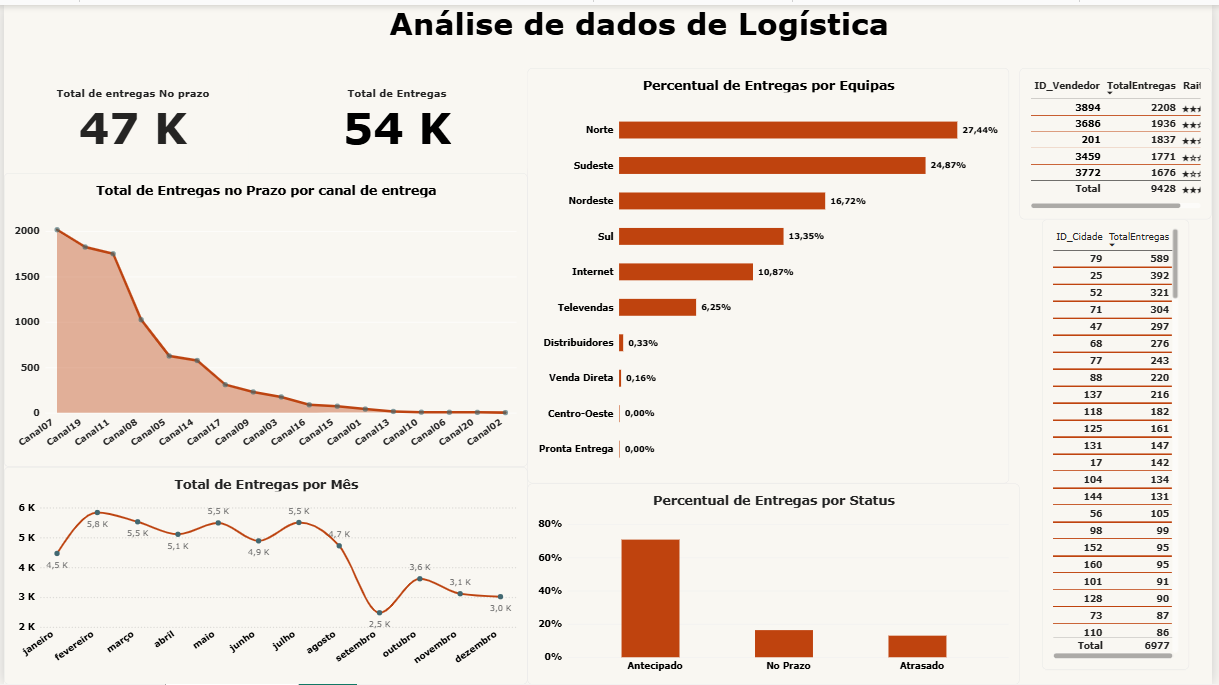

The dashboard page shown, as its layout file describes it:
{"tool":"powerbi","page":{"name":"Logística","canvas":[1920,1080],"ordinal":0},"visuals":[{"type":"areaChart","title":"Total de Entregas no Prazo por canal de entrega","fields":{"Category":["Logistica.Canal_Entrega"],"Y":["Medida.TotalEntregas"]},"box":[0,267.2,832.7,467.6],"z":0},{"type":"clusteredBarChart","title":"Percentual de Entregas por Equipas","fields":{"Category":["Logistica.Equipe_Entrega"],"Y":["Medida.TotalEntregas"]},"box":[832.7,100.2,765.9,660.9],"z":1},{"type":"lineChart","title":"Total de Entregas por Mês","fields":{"Category":["Logistica.Data_Entrega_Realizada.Variação.Hierarquia de Datas.Mês"],"Y":["Medida.TotalEntregas"]},"box":[0,734.9,832.7,346],"z":2},{"type":"tableEx","fields":{"Values":["Logistica.ID_Vendedor","Medida.TotalEntregas","Medida.Raiting"]},"box":[1615.3,100.2,305.4,241],"z":3},{"type":"tableEx","fields":{"Values":["Logistica.ID_Cidade","Medida.TotalEntregas"]},"box":[1651.1,341.2,233.8,715.8],"z":4},{"type":"columnChart","title":"Percentual de Entregas por Status","fields":{"Category":["Logistica.Status_Entrega"],"Y":["Medida.TotalEntregas"]},"box":[832.7,761.1,782.6,319.7],"z":5},{"type":"cardVisual","title":"Total de Entregas","fields":{"Data":["Medida.TotalEntregas"]},"box":[417.5,100.2,415.1,167],"z":6},{"type":"cardVisual","fields":{"Data":["Medida.TotalEntregaPrazo"]},"box":[21.5,100.2,367.4,167],"z":7},{"type":"textbox","box":[100.2,0,1820.5,78.7],"z":8}]}

Visuals, with their boxes in screenshot pixels (x1, y1, x2, y2), scaled from the page's 1920x1080 canvas onto the 1219x685 screenshot:
"Total de Entregas no Prazo por canal de entrega" areaChart: crop(0, 169, 529, 466)
"Percentual de Entregas por Equipas" clusteredBarChart: crop(529, 64, 1015, 483)
"Total de Entregas por Mês" lineChart: crop(0, 466, 529, 684)
tableEx - Logistica.ID_Vendedor x Medida.TotalEntregas: crop(1026, 64, 1218, 216)
tableEx - Logistica.ID_Cidade x Medida.TotalEntregas: crop(1048, 216, 1197, 670)
"Percentual de Entregas por Status" columnChart: crop(529, 483, 1026, 684)
"Total de Entregas" cardVisual: crop(265, 64, 529, 169)
cardVisual - Medida.TotalEntregaPrazo: crop(14, 64, 247, 169)
textbox: crop(64, 0, 1218, 50)
